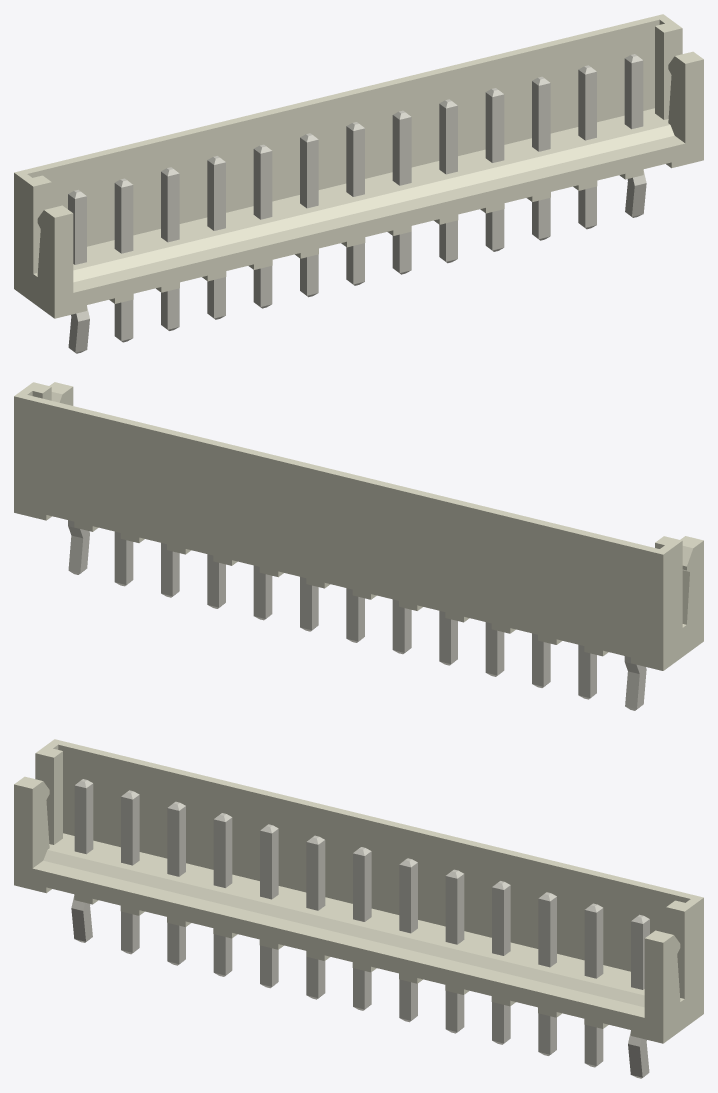
The model's file is kc-jst_eh_b13b-eh-a_1x13_p2.50mm_vertical.glb.
3 views of the same model, one above another, from view 1: azimuth 30°, elevation 25°; view 2: azimuth 150°, elevation 25°; view 3: azimuth 330°, elevation 25° (orthographic).
Visible parts, largest first — view 1: 0.75_0.75_0.5833333333333334_0, 0.6666666666666666_0.6666666666666666_0.5833333333333334_0.8; view 2: 0.75_0.75_0.5833333333333334_0, 0.6666666666666666_0.6666666666666666_0.5833333333333334_0.8; view 3: 0.75_0.75_0.5833333333333334_0, 0.6666666666666666_0.6666666666666666_0.5833333333333334_0.8.
Boxes of the visible parts, left/top/right/bottom form: 0.75_0.75_0.5833333333333334_0: left=14, top=14, right=703, bottom=318; 0.6666666666666666_0.6666666666666666_0.5833333333333334_0.8: left=68, top=54, right=646, bottom=353; 0.75_0.75_0.5833333333333334_0: left=14, top=382, right=703, bottom=670; 0.6666666666666666_0.6666666666666666_0.5833333333333334_0.8: left=68, top=520, right=646, bottom=710; 0.75_0.75_0.5833333333333334_0: left=14, top=739, right=703, bottom=1043; 0.6666666666666666_0.6666666666666666_0.5833333333333334_0.8: left=71, top=779, right=649, bottom=1078.
Size of the model in its own units: 3.5 by 0.92 by 0.3798.
